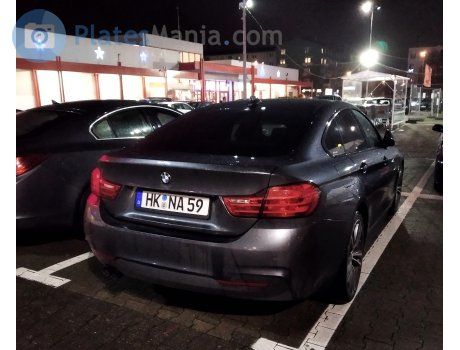License Plates: (143, 188, 207, 216)
